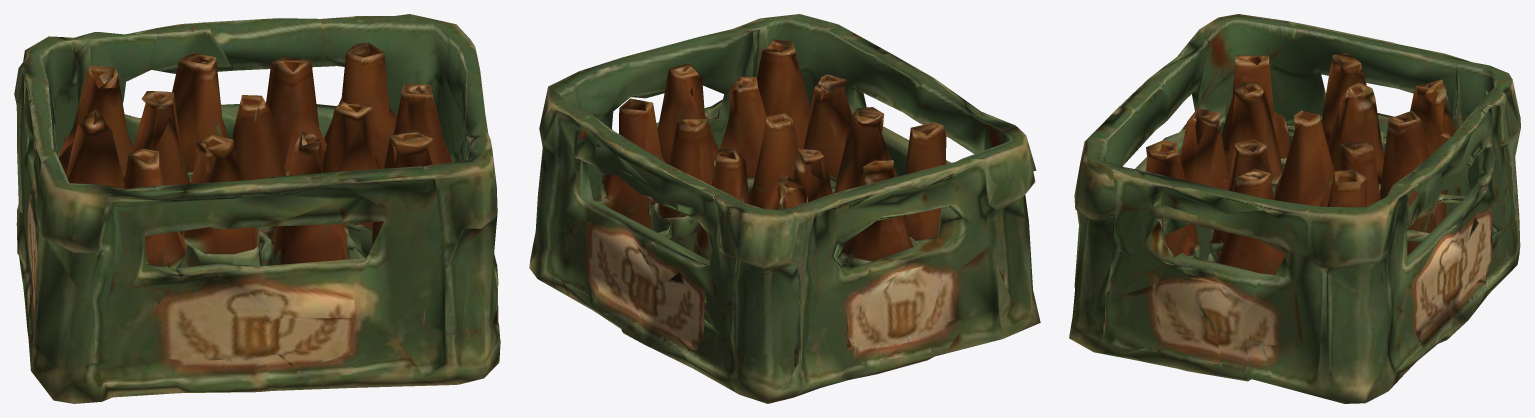
File: d_veg_crate.glb
3 renders of one model, left to right at view 1: azimuth 30°, elevation 25°; view 2: azimuth 150°, elevation 25°; view 3: azimuth 270°, elevation 25°, orthographic. The views are drawn at different scales.
Bounding box in the file's own units: 1.47 × 0.6044 × 1.31.
Materials: 1 (1 with a texture image).
